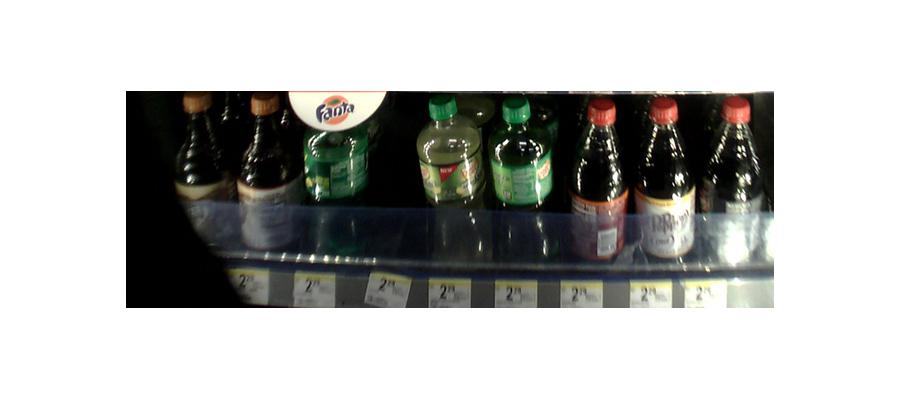bottle: (297, 92, 377, 253), (700, 94, 767, 271), (488, 98, 556, 256), (420, 99, 485, 262), (634, 95, 695, 267), (238, 90, 298, 257), (174, 92, 232, 260), (570, 98, 627, 265)
